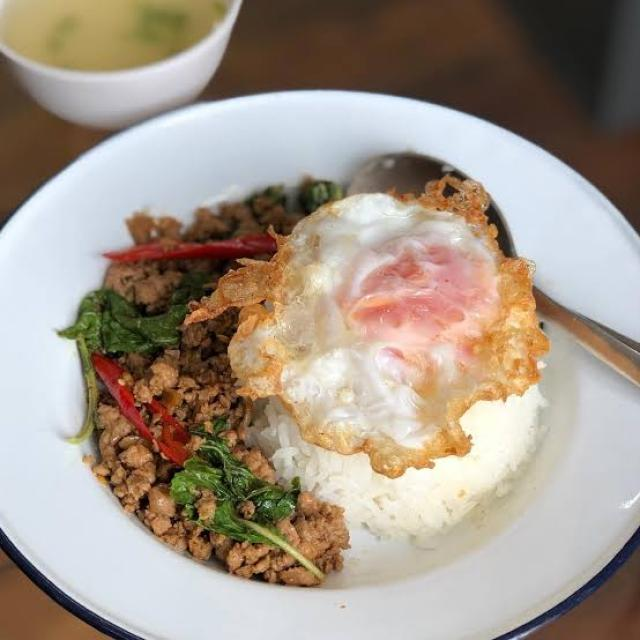basil chicken rice: (12, 178, 600, 574)
carb: (282, 381, 584, 536)
meat: (81, 288, 325, 584)
vegetable: (202, 422, 276, 546), (68, 288, 189, 360)
